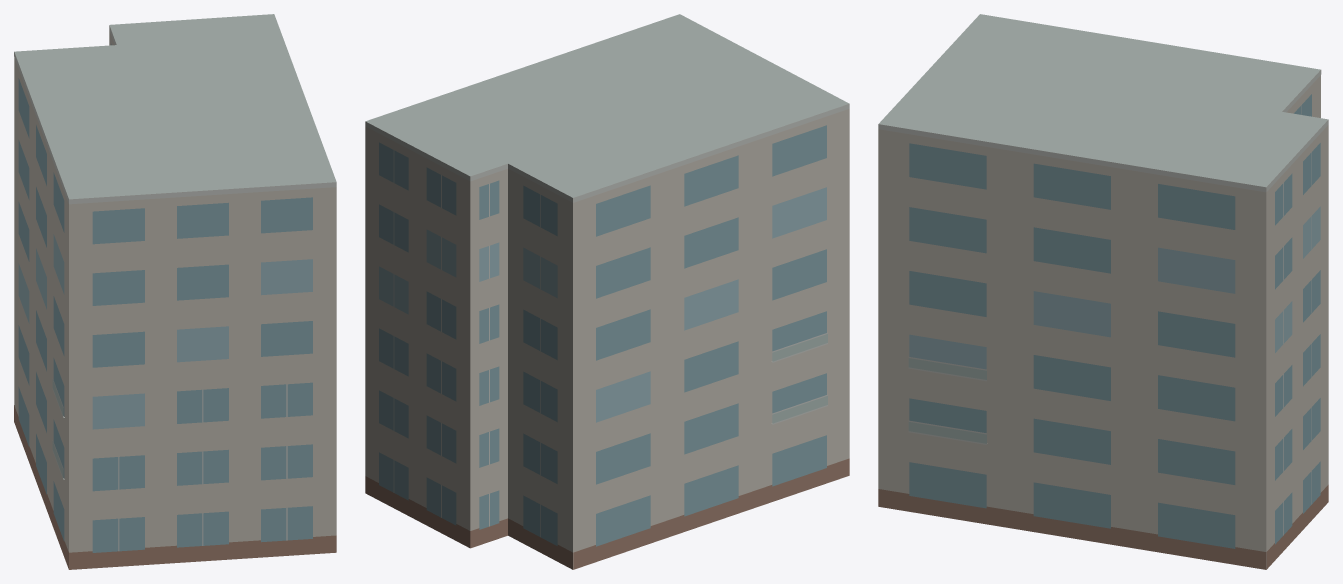
File: survey-upis-32892240.glb
3 views of the same model, side by side, from view 1: azimuth 30°, elevation 25°; view 2: azimuth 150°, elevation 25°; view 3: azimuth 270°, elevation 25° (orthographic). The views are drawn at different scales.
Visible parts, largest first — view 1: survey-upis-32892240.tmp; view 2: survey-upis-32892240.tmp; view 3: survey-upis-32892240.tmp.
Part boxes in pixels (<box>): survey-upis-32892240.tmp: <box>14,14,336,569</box>; survey-upis-32892240.tmp: <box>365,14,849,569</box>; survey-upis-32892240.tmp: <box>878,14,1328,569</box>.
Size of the model in its own units: 17.79 by 18.3 by 19.53.
